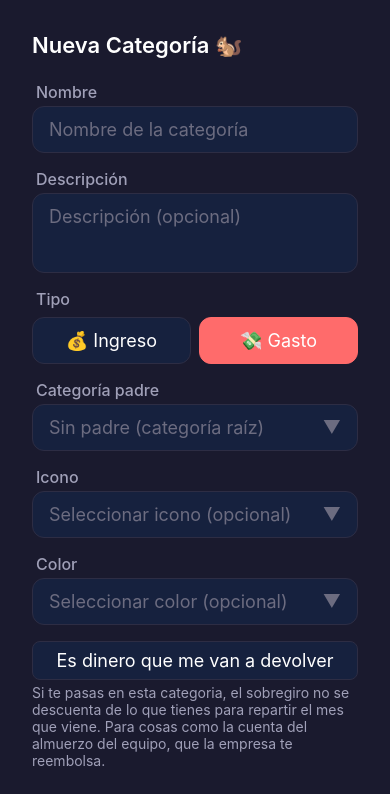
CategoryFormScreen › shows preview when name is entered
Type "Mi Categoría" into the field with placeholder "Nombre de la categoría".
click(195, 130); type("Mi Categoría")  # box 32,106 -> 358,153
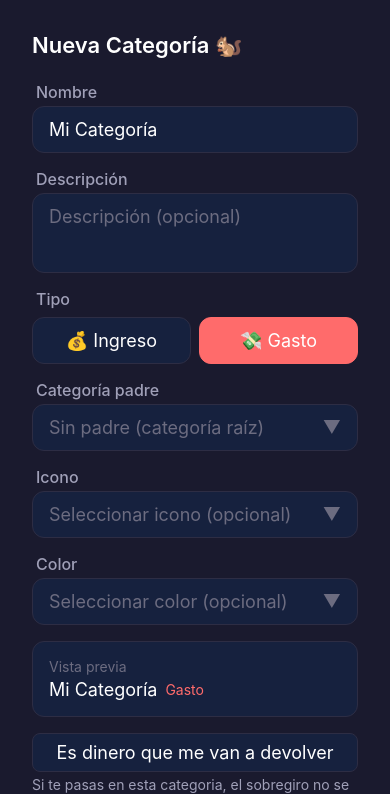
Expected: the text "Vista previa" is shown, 49,658 -> 126,675
